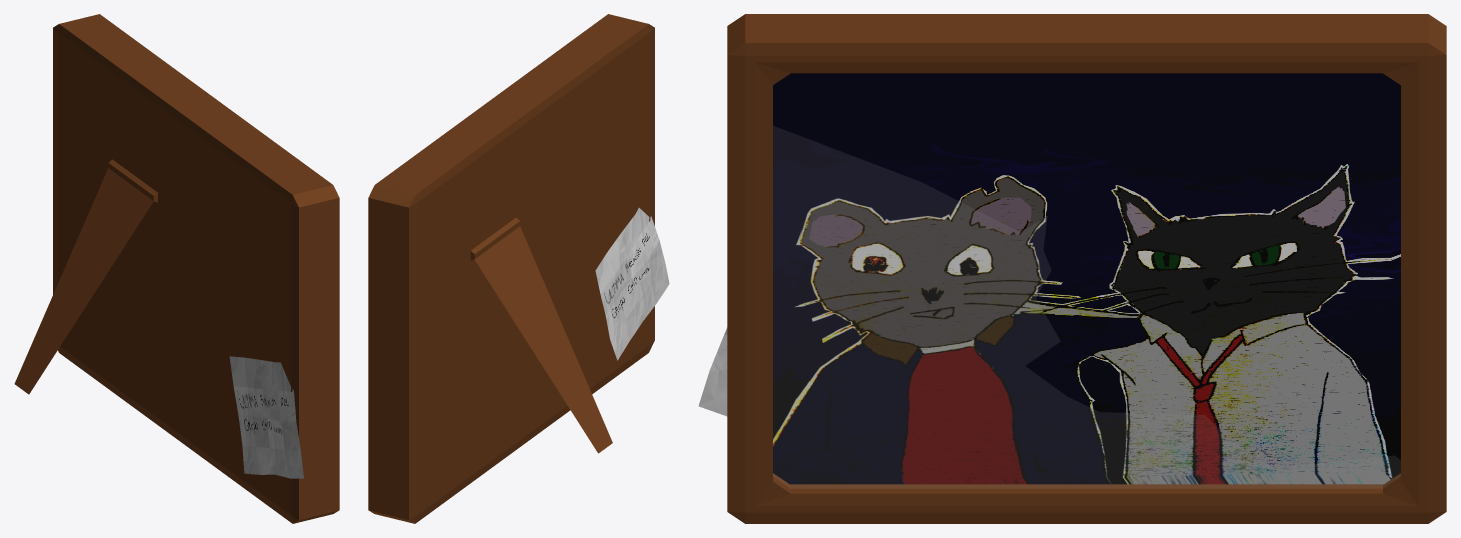
Rendered from Cuadro.fbx.
The picture shows the model from 3 angles, left to right: view 1: azimuth 30°, elevation 25°; view 2: azimuth 150°, elevation 25°; view 3: azimuth 270°, elevation 25°; orthographic projection. The views are drawn at different scales.
Visible parts, largest first — view 1: Cube, Cylinder, Plane; view 2: Cube, Cylinder, Plane; view 3: Cube, Plane.
Part boxes in pixels (x1,y1,x2,y2): Cube: (53, 14, 339, 523); Cylinder: (14, 159, 157, 394); Plane: (229, 356, 303, 478); Cube: (368, 14, 654, 523); Cylinder: (470, 218, 612, 453); Plane: (595, 208, 669, 360); Cube: (727, 14, 1446, 523); Plane: (698, 327, 727, 416).
Bounding box in the file's own units: 45.16 × 91.24 × 129.
